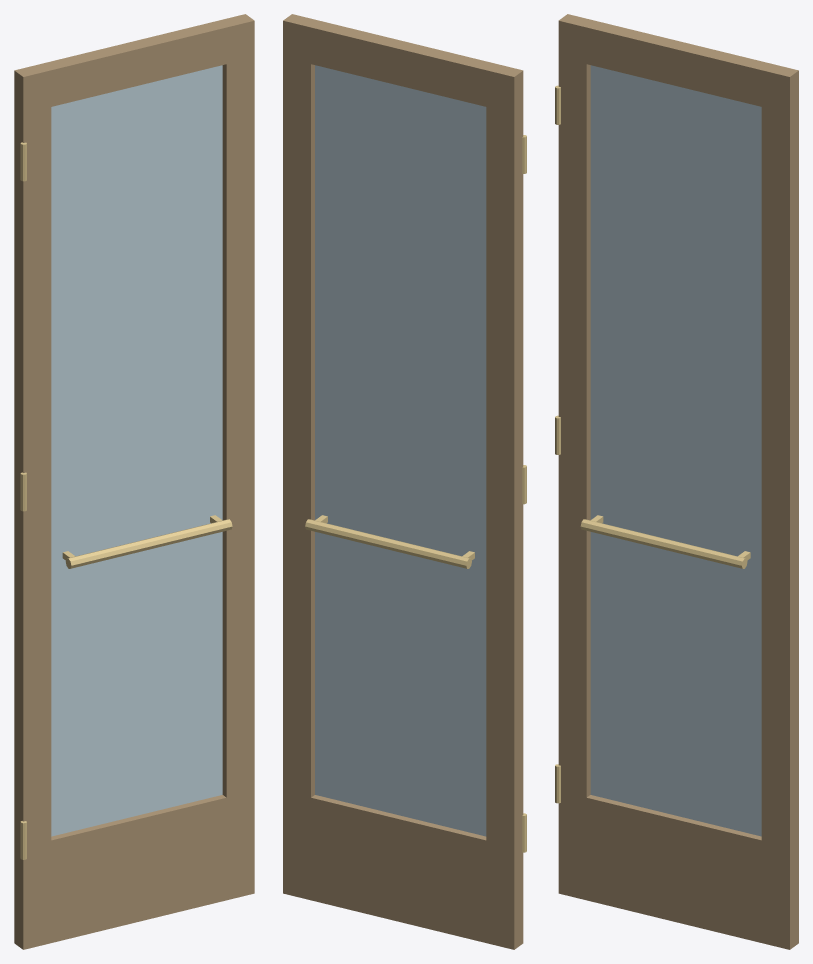
The model's file is door_leaf_entry.glb.
The picture shows the model from 3 angles, left to right: view 1: azimuth 30°, elevation 25°; view 2: azimuth 150°, elevation 25°; view 3: azimuth 330°, elevation 25°; orthographic projection.
Parts seen in each view (by area): view 1: door_leaf_entry_glass, door_leaf_entry_bronze, door_leaf_entry_gold; view 2: door_leaf_entry_glass, door_leaf_entry_bronze, door_leaf_entry_gold; view 3: door_leaf_entry_glass, door_leaf_entry_bronze, door_leaf_entry_gold.
Boxes of the visible parts, <box> form: door_leaf_entry_glass: <box>51,65,222,836</box>; door_leaf_entry_bronze: <box>14,14,254,949</box>; door_leaf_entry_gold: <box>20,142,232,859</box>; door_leaf_entry_glass: <box>315,65,486,836</box>; door_leaf_entry_bronze: <box>283,14,523,949</box>; door_leaf_entry_gold: <box>305,135,526,852</box>; door_leaf_entry_glass: <box>590,65,761,836</box>; door_leaf_entry_bronze: <box>558,14,798,949</box>; door_leaf_entry_gold: <box>555,85,750,803</box>.
Bounding box in the file's own units: 0.668 × 2.38 × 0.173.
